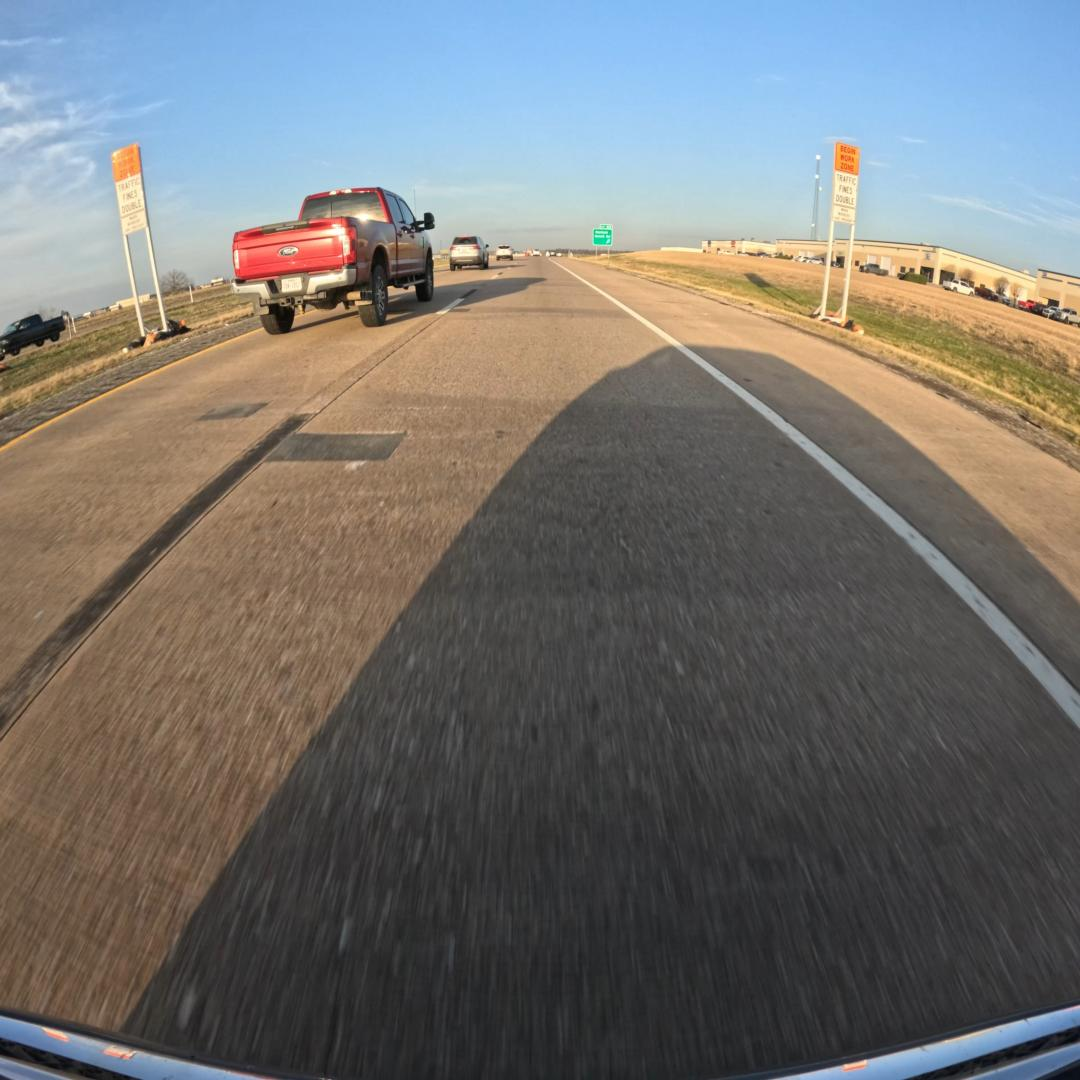lane0: (0, 265, 1080, 1080)
lane1: (0, 273, 494, 737)
